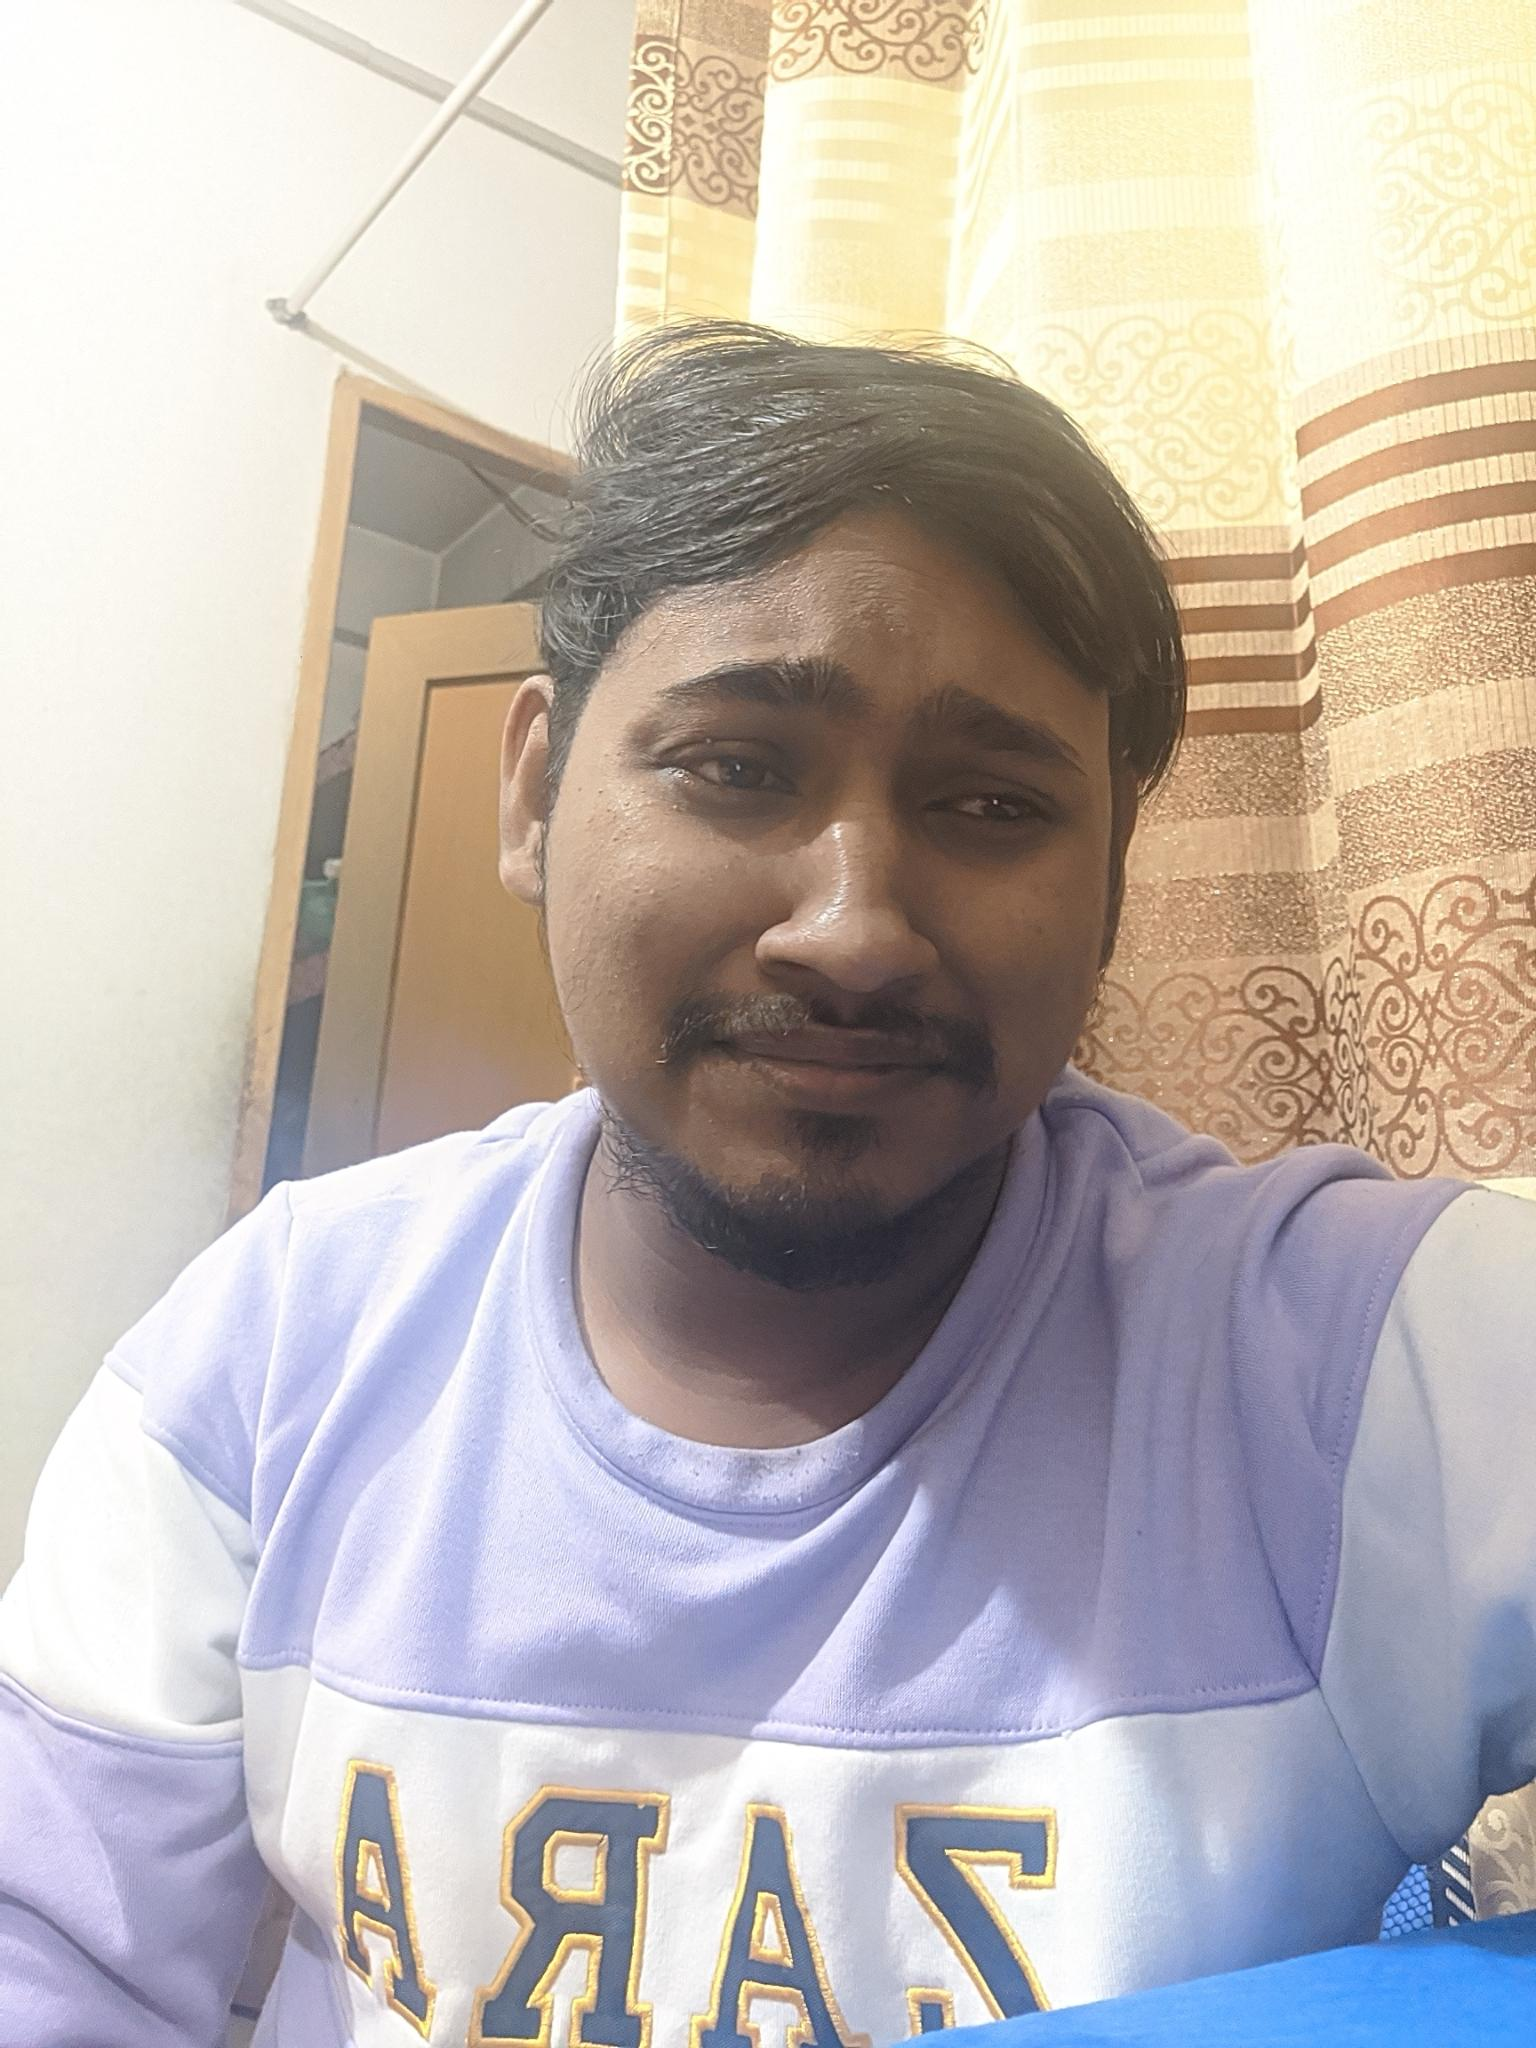Sad: (587, 597, 1112, 1243)
